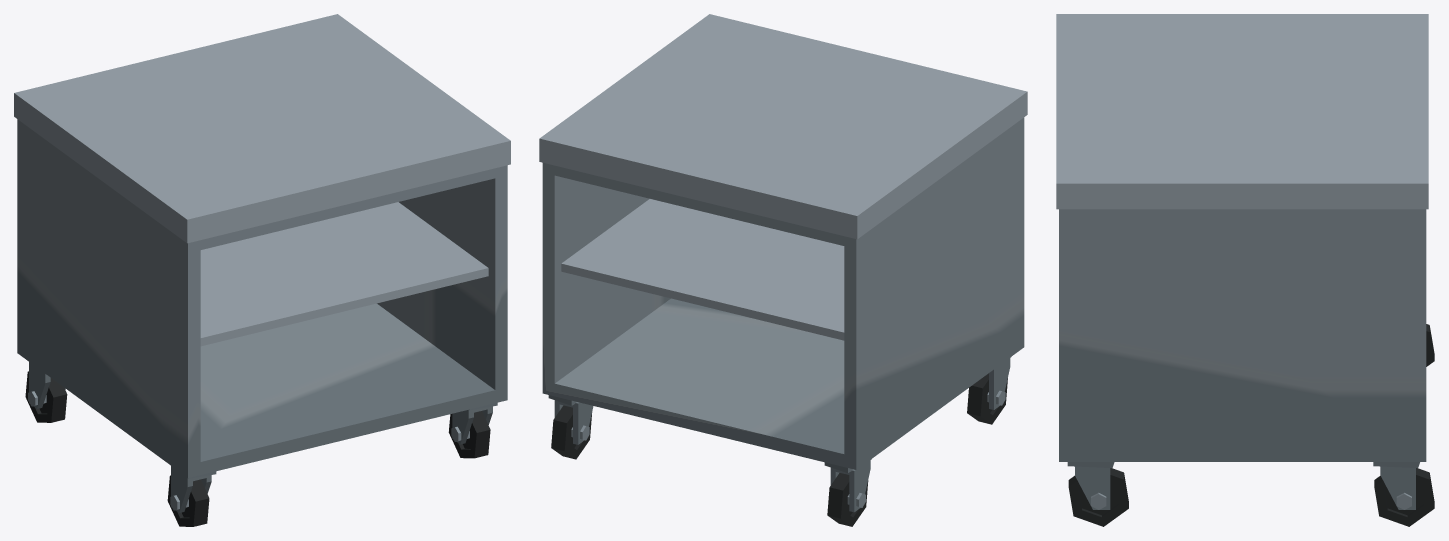
Rendered from SM_Prop_Kitchen_Prep_Table_02.obj.
The picture shows the model from 3 angles, left to right: view 1: azimuth 30°, elevation 25°; view 2: azimuth 150°, elevation 25°; view 3: azimuth 270°, elevation 25°; orthographic projection. The views are drawn at different scales.
Visible parts, largest first — view 1: SM_Prop_Kitchen_Prep_Table_02_0; view 2: SM_Prop_Kitchen_Prep_Table_02_0; view 3: SM_Prop_Kitchen_Prep_Table_02_0.
Part boxes in pixels (<box>): SM_Prop_Kitchen_Prep_Table_02_0: <box>14,14,510,526</box>; SM_Prop_Kitchen_Prep_Table_02_0: <box>539,14,1027,526</box>; SM_Prop_Kitchen_Prep_Table_02_0: <box>1056,14,1434,526</box>.
Size of the model in its own units: 1.09 by 1.05 by 1.03.
1 material, 1 textured.
